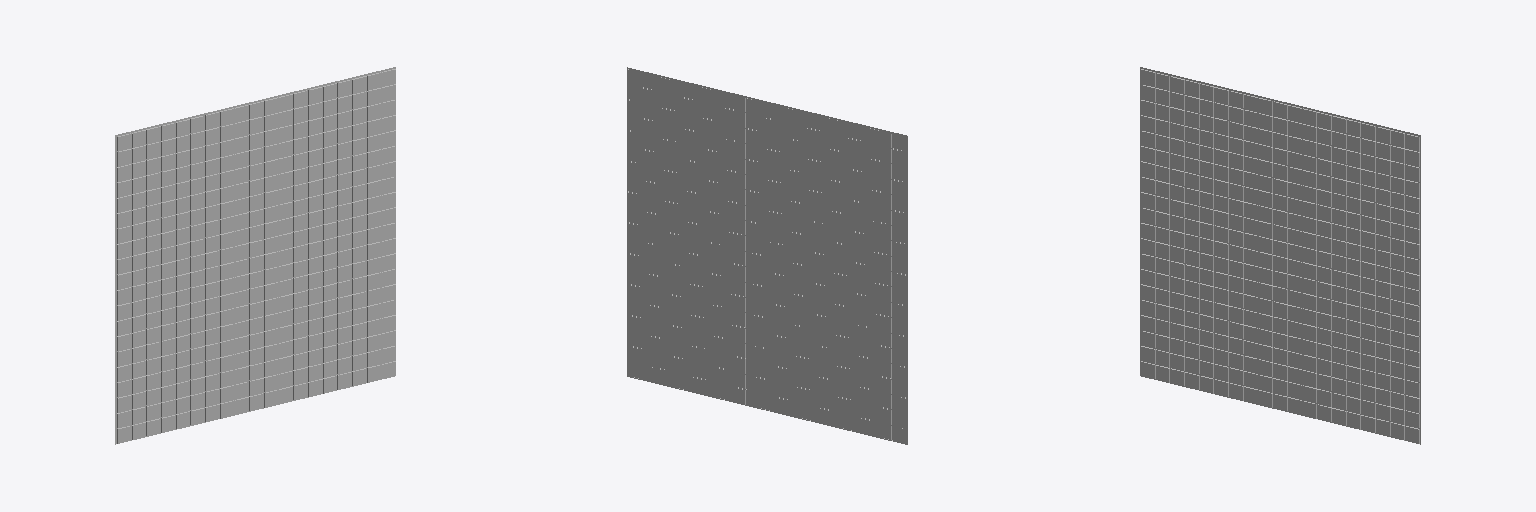
File: BackGround Wall.obj
3 renders of one model, left to right at view 1: azimuth 30°, elevation 25°; view 2: azimuth 150°, elevation 25°; view 3: azimuth 330°, elevation 25°, orthographic.
Parts seen in each view (by area): view 1: BackGround_Wall; view 2: BackGround_Wall; view 3: BackGround_Wall.
Part boxes in pixels (x1,y1,x2,y2): BackGround_Wall: (115, 67, 395, 444); BackGround_Wall: (627, 67, 907, 444); BackGround_Wall: (1140, 67, 1420, 444).
Bounding box in the file's own units: 19.12 × 20.12 × 0.1077.